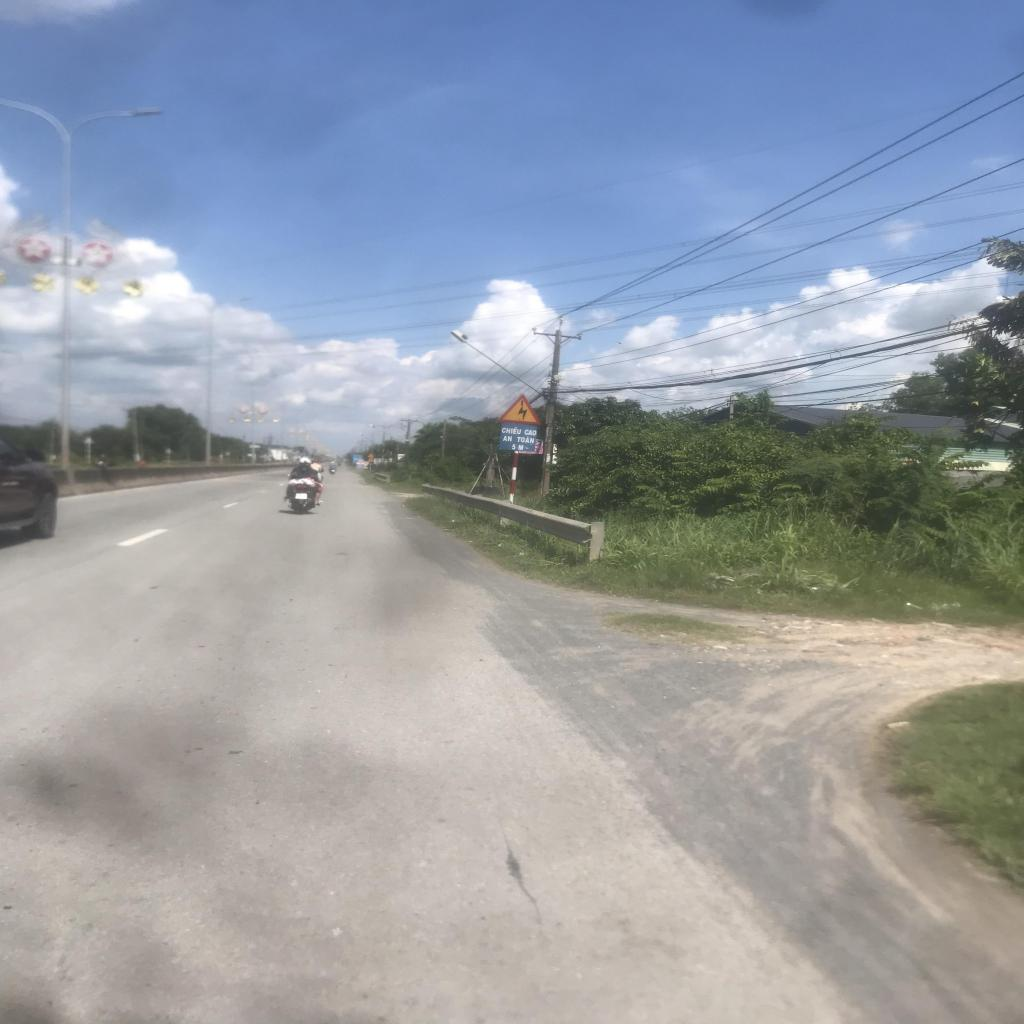khac: (497, 393, 542, 425)
